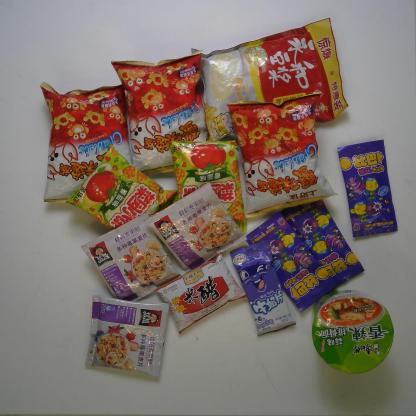Candy: (247, 210, 338, 314), (280, 188, 365, 292), (229, 240, 297, 336), (338, 140, 397, 237)
Instant Drink: (190, 17, 349, 144), (81, 214, 182, 307), (145, 184, 247, 274), (85, 295, 169, 378)
Instant Noodles: (312, 290, 394, 373)
Puffed Food: (225, 94, 338, 216), (110, 50, 215, 178), (39, 80, 138, 204), (65, 146, 177, 250), (167, 137, 248, 240)
Seasoner: (155, 252, 246, 334)
